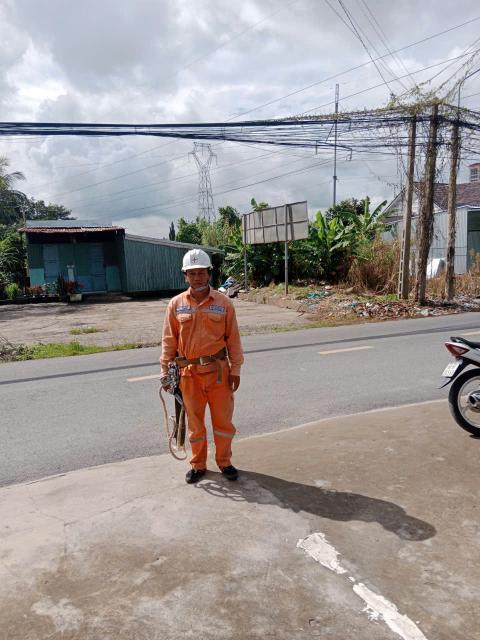gloves: (222, 373, 250, 394), (158, 372, 180, 398)
harness: (165, 345, 239, 369)
helmet: (175, 243, 222, 276)
shoes: (219, 459, 243, 489), (172, 462, 207, 482)
